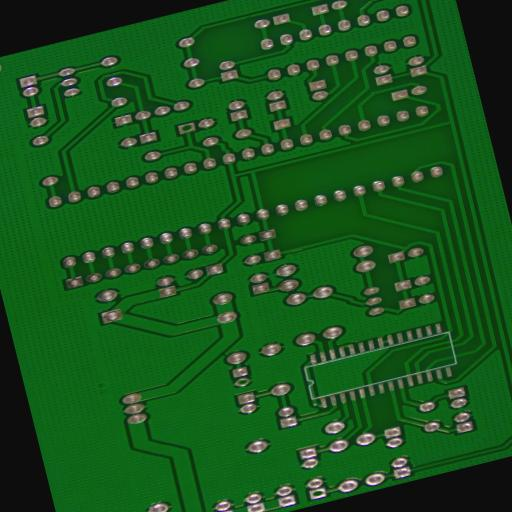missing_hole: (235, 376, 250, 386), (311, 488, 325, 498), (180, 122, 194, 132)
